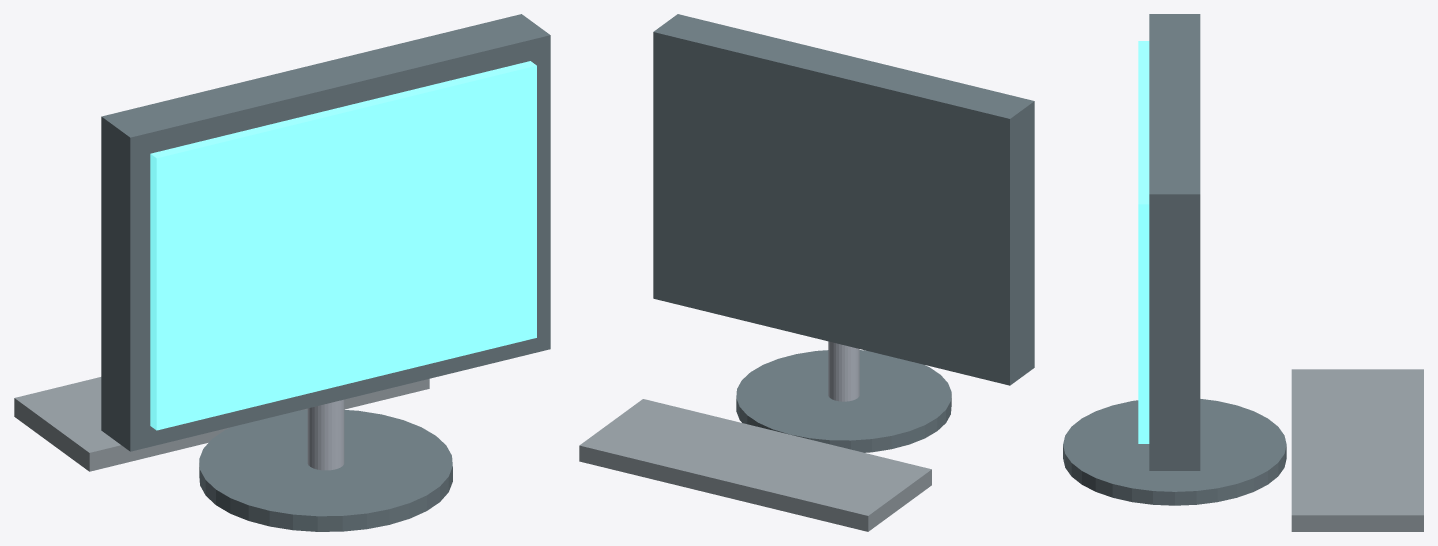
File: prop_pc.glb
The picture shows the model from 3 angles, left to right: view 1: azimuth 30°, elevation 25°; view 2: azimuth 150°, elevation 25°; view 3: azimuth 270°, elevation 25°; orthographic projection. The views are drawn at different scales.
Parts seen in each view (by area): view 1: pc_screen, pc_monitor, pc_base, pc_keyboard, pc_pole; view 2: pc_monitor, pc_keyboard, pc_base, pc_pole; view 3: pc_monitor, pc_keyboard, pc_base, pc_screen.
Boxes of the visible parts, x1=… form: pc_screen: x1=150, y1=61, x2=536, y2=430; pc_monitor: x1=101, y1=14, x2=550, y2=451; pc_base: x1=199, y1=409, x2=452, y2=531; pc_keyboard: x1=14, y1=377, x2=429, y2=471; pc_pole: x1=307, y1=399, x2=344, y2=470; pc_monitor: x1=653, y1=14, x2=1034, y2=385; pc_keyboard: x1=579, y1=399, x2=931, y2=531; pc_base: x1=736, y1=350, x2=951, y2=452; pc_pole: x1=828, y1=341, x2=859, y2=401; pc_monitor: x1=1149, y1=14, x2=1200, y2=470; pc_keyboard: x1=1291, y1=369, x2=1423, y2=531; pc_base: x1=1063, y1=399, x2=1286, y2=505; pc_screen: x1=1138, y1=41, x2=1149, y2=443.
Size of the model in its own units: 0.42 by 0.385 by 0.355.
